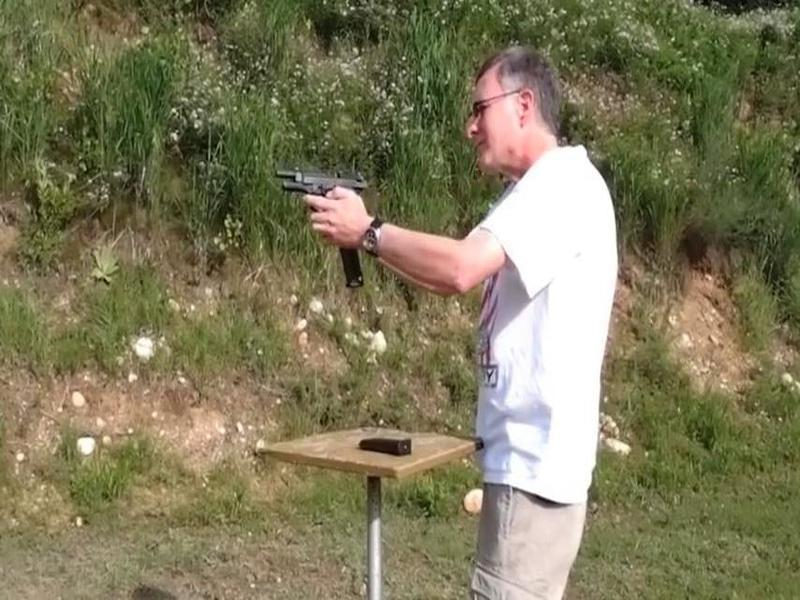Pistola: (266, 145, 384, 263)
